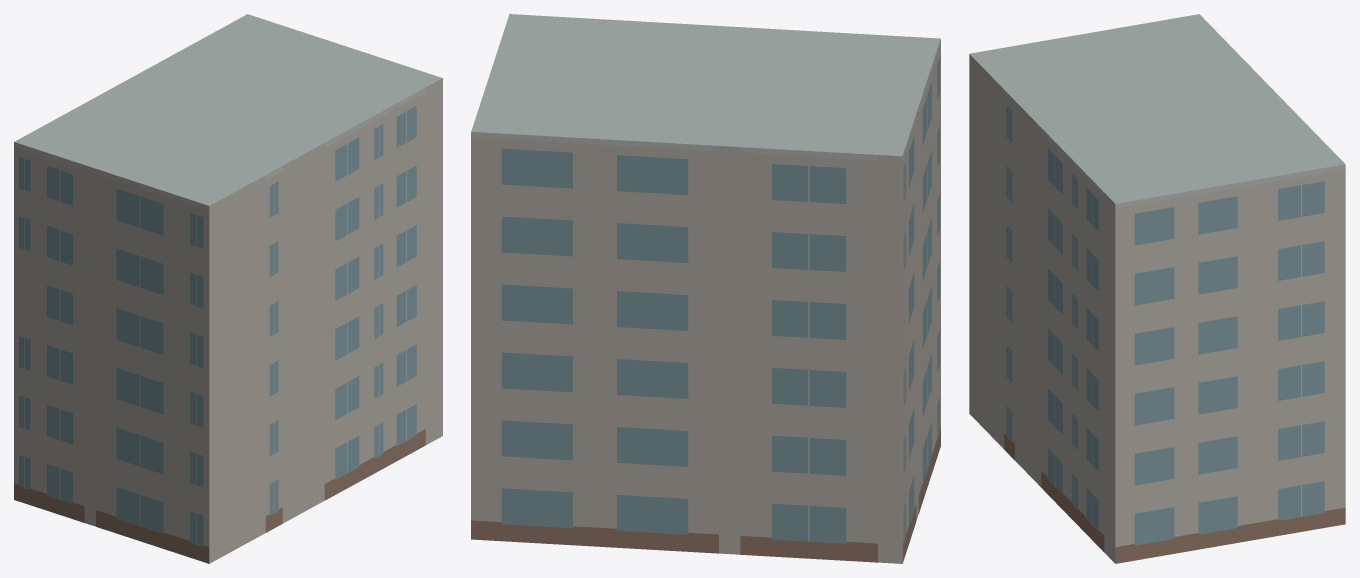
File: survey-upis-32954847.glb
The picture shows the model from 3 angles, left to right: view 1: azimuth 30°, elevation 25°; view 2: azimuth 150°, elevation 25°; view 3: azimuth 270°, elevation 25°; orthographic projection. The views are drawn at different scales.
Parts seen in each view (by area): view 1: survey-upis-32954847.tmp; view 2: survey-upis-32954847.tmp; view 3: survey-upis-32954847.tmp.
Part boxes in pixels (x1,y1,x2,y2): survey-upis-32954847.tmp: (14, 14, 442, 563); survey-upis-32954847.tmp: (471, 14, 940, 563); survey-upis-32954847.tmp: (969, 14, 1345, 563).
Size of the model in its own units: 20.15 by 17.8 by 16.87.
